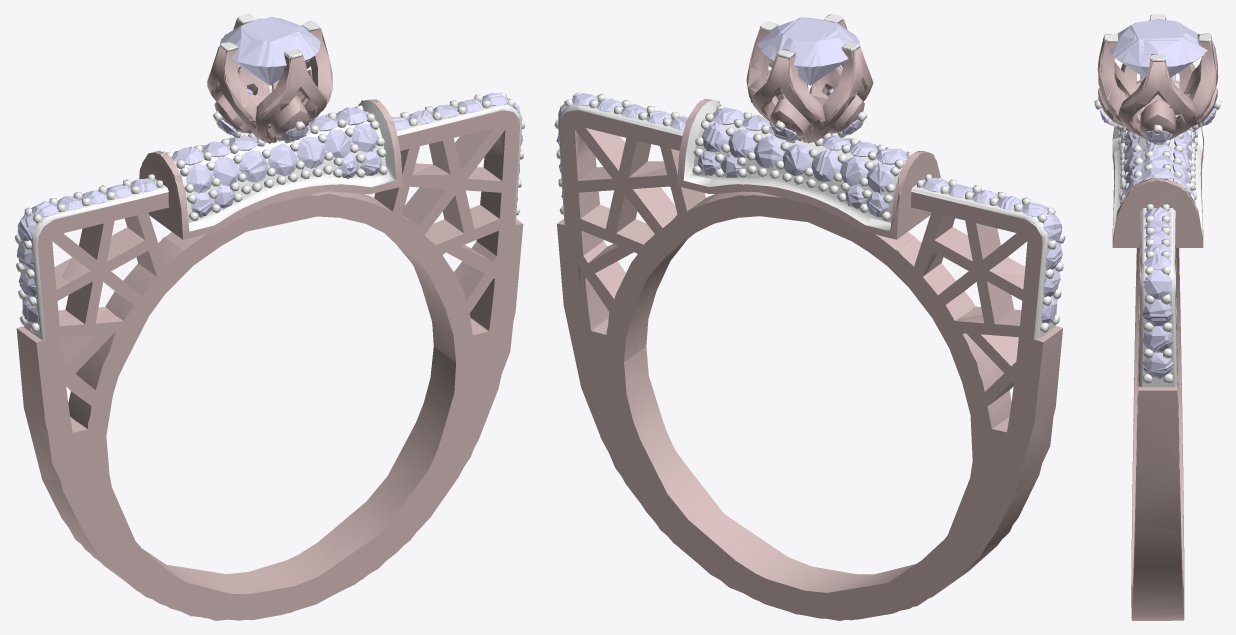
Rendered from DLR-D000684439.glb.
3 renders of one model, left to right at view 1: azimuth 30°, elevation 25°; view 2: azimuth 150°, elevation 25°; view 3: azimuth 270°, elevation 25°, orthographic.
Parts seen in each view (by area): view 1: highPolyMesh, lowPolyMesh; view 2: highPolyMesh, lowPolyMesh; view 3: highPolyMesh, lowPolyMesh.
Boxes of the visible parts, x1,y1,x2,y2 form: highPolyMesh: (15,14,524,620); lowPolyMesh: (14,14,525,620); highPolyMesh: (555,14,1064,619); lowPolyMesh: (554,14,1065,620); highPolyMesh: (1094,14,1221,620); lowPolyMesh: (1094,14,1221,620).
Bounding box in the file's own units: 0.0236 × 0.026 × 0.00528.
